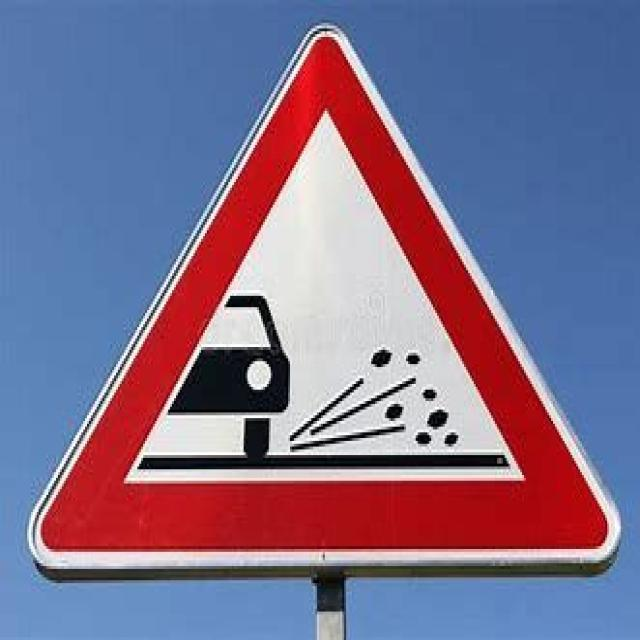loose gravel: (41, 26, 612, 558)
